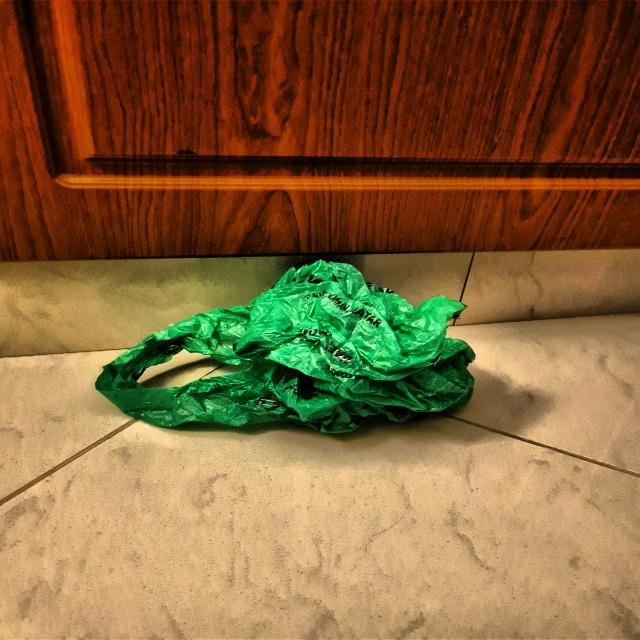plastic bag: (79, 254, 488, 445)
